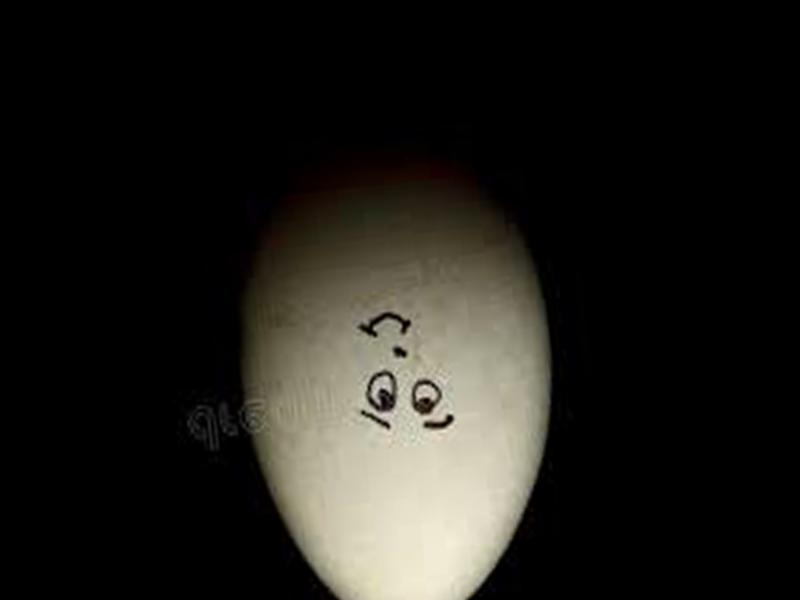Eggs: (223, 155, 576, 600)
